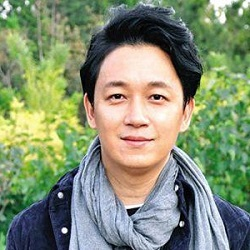unmask: (89, 50, 187, 171)
